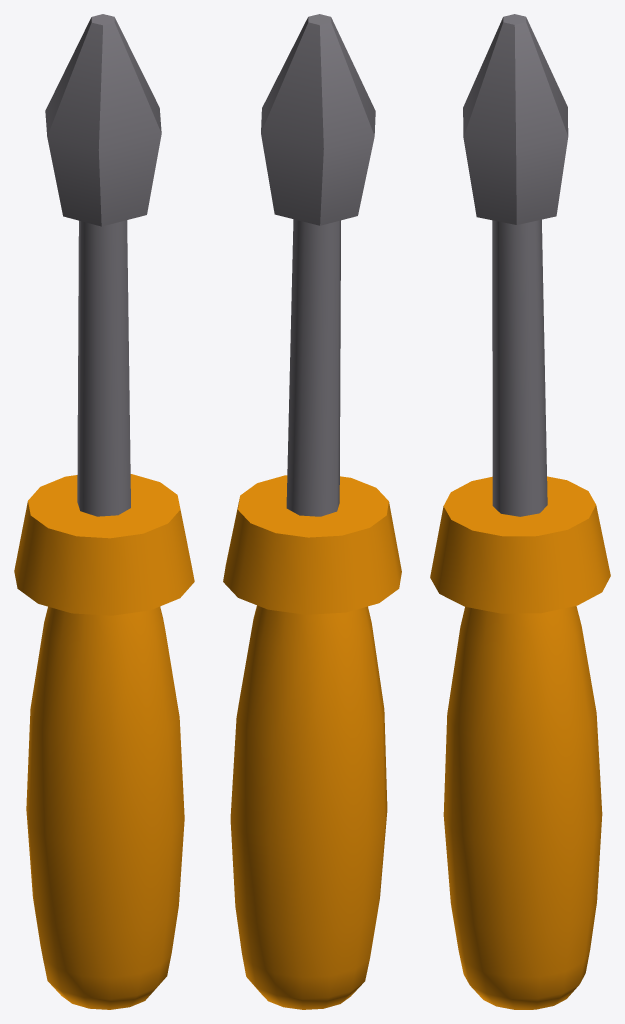
File: Screwdriver_02.fbx
3 views of the same model, side by side, from view 1: azimuth 30°, elevation 25°; view 2: azimuth 150°, elevation 25°; view 3: azimuth 270°, elevation 25° (orthographic).
Parts seen in each view (by area): view 1: Screwdriver_02; view 2: Screwdriver_02; view 3: Screwdriver_02.
Part boxes in pixels (<box>): Screwdriver_02: <box>14,14,194,1009</box>; Screwdriver_02: <box>223,14,401,1009</box>; Screwdriver_02: <box>430,14,610,1009</box>.
Size of the model in its own units: 6.1 by 6.25 by 37.16.
